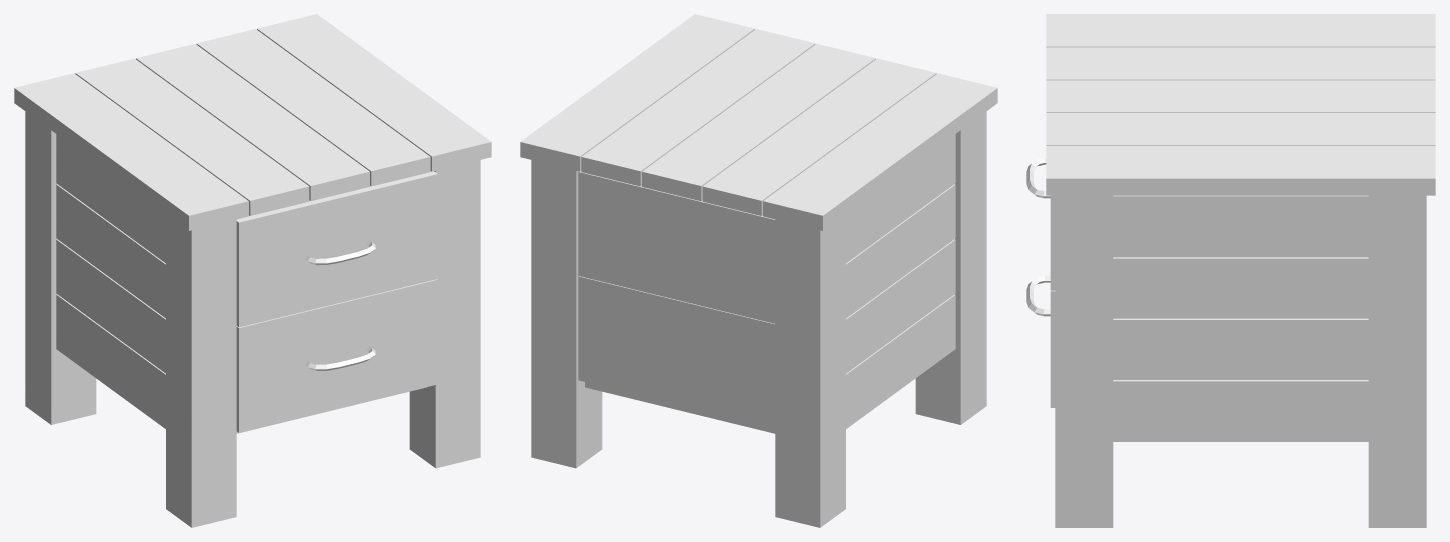
Rendered from Prop_Nightstand_01.glb.
The picture shows the model from 3 angles, left to right: view 1: azimuth 30°, elevation 25°; view 2: azimuth 150°, elevation 25°; view 3: azimuth 270°, elevation 25°; orthographic projection. The views are drawn at different scales.
Parts seen in each view (by area): view 1: Prop_Nightstand_01, Prop_Nightstand_Top_01, Prop_Nightstand_Bottom_01; view 2: Prop_Nightstand_01; view 3: Prop_Nightstand_01, Prop_Nightstand_Bottom_01, Prop_Nightstand_Top_01.
Boxes of the visible parts, x1=… form: Prop_Nightstand_01: x1=14, y1=14, x2=491, y2=527; Prop_Nightstand_Top_01: x1=236, y1=171, x2=437, y2=327; Prop_Nightstand_Bottom_01: x1=236, y1=279, x2=437, y2=432; Prop_Nightstand_01: x1=520, y1=14, x2=997, y2=527; Prop_Nightstand_01: x1=1046, y1=14, x2=1435, y2=527; Prop_Nightstand_Bottom_01: x1=1026, y1=275, x2=1055, y2=407; Prop_Nightstand_Top_01: x1=1026, y1=157, x2=1055, y2=290.
Size of the model in its own units: 0.4 by 0.4 by 0.4206.
1 material, 1 textured.
